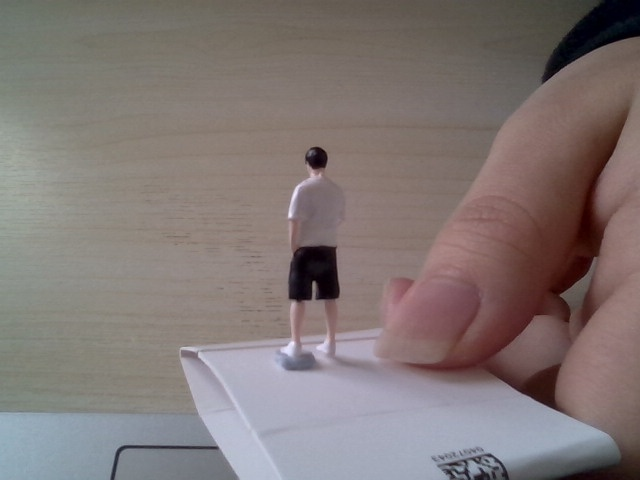walk: (271, 132, 360, 366)
